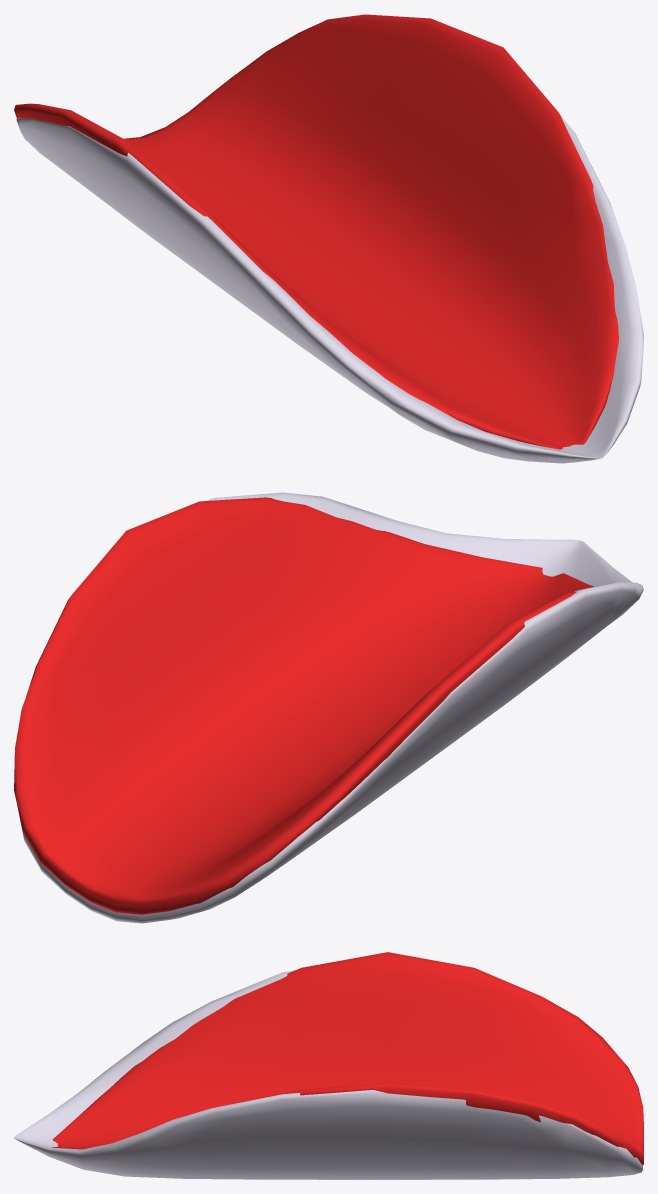
Rendered from lepestok-1.fbx.
3 renders of one model, top to bottom at view 1: azimuth 30°, elevation 25°; view 2: azimuth 150°, elevation 25°; view 3: azimuth 270°, elevation 25°, orthographic. The views are drawn at different scales.
Parts seen in each view (by area): view 1: lepestok; view 2: lepestok; view 3: lepestok.
Boxes of the visible parts, bbox=[...] form: lepestok: bbox=[14, 14, 643, 463]; lepestok: bbox=[14, 492, 643, 923]; lepestok: bbox=[14, 952, 643, 1179].
Bounding box in the file's own units: 1.96 × 1.04 × 4.01.
